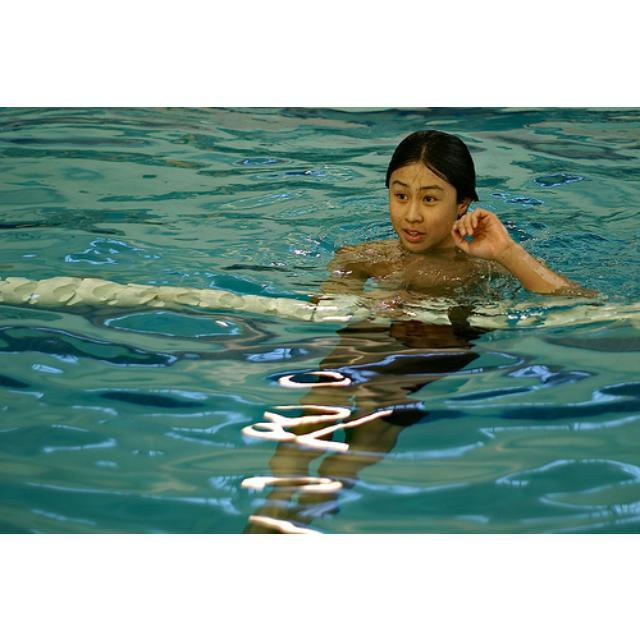human: (310, 127, 598, 394)
